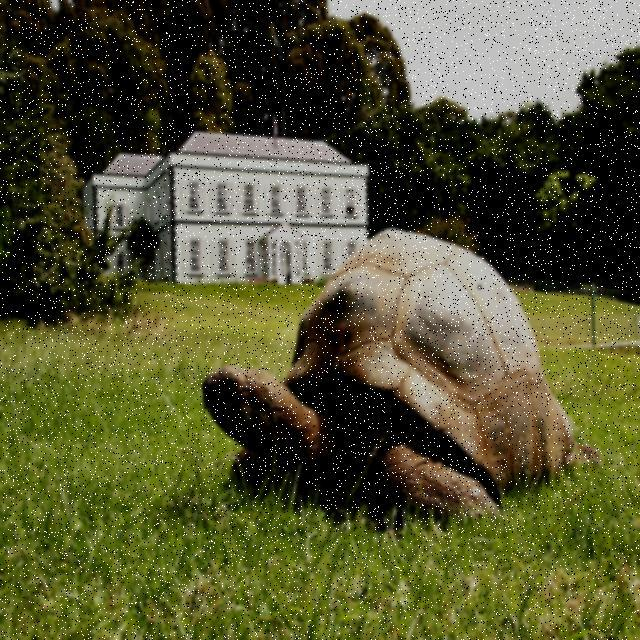tortoise: (190, 215, 606, 542)
